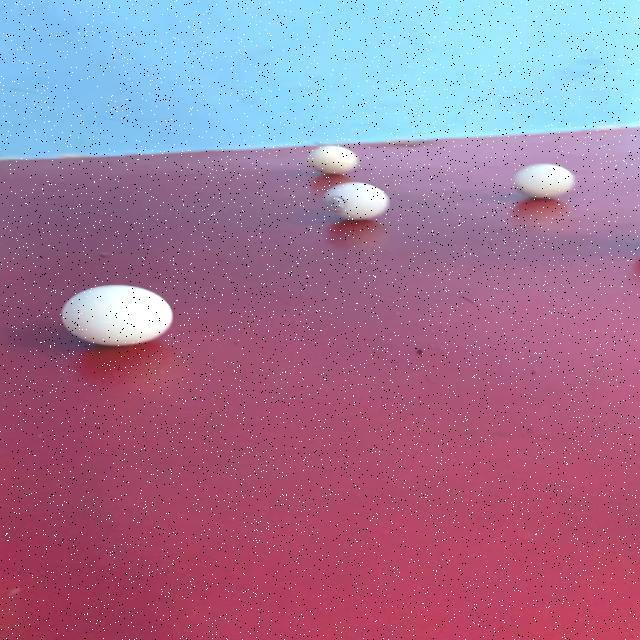ping-pong-ball: (51, 280, 178, 350), (317, 178, 393, 224), (506, 158, 584, 202), (298, 143, 366, 180)
